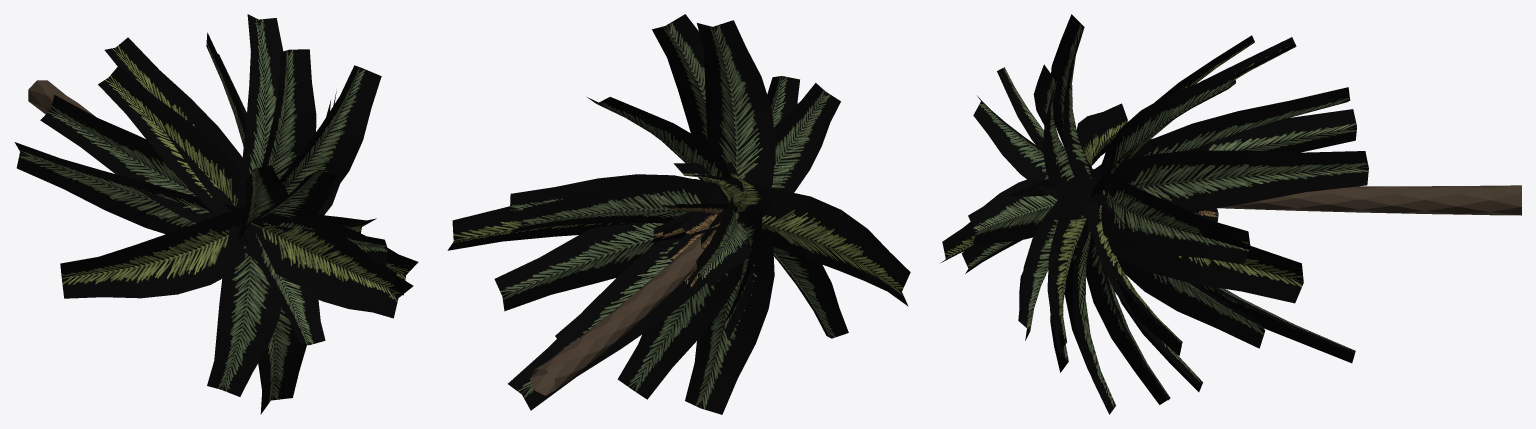
File: SM_Plant_DatePalm_B.obj
3 renders of one model, left to right at view 1: azimuth 30°, elevation 25°; view 2: azimuth 150°, elevation 25°; view 3: azimuth 270°, elevation 25°, orthographic. The views are drawn at different scales.
Visible parts, largest first — view 1: SM_Plant_DatePalm_B; view 2: SM_Plant_DatePalm_B; view 3: SM_Plant_DatePalm_B.
Part boxes in pixels (<box>): SM_Plant_DatePalm_B: <box>14,14,418,414</box>; SM_Plant_DatePalm_B: <box>447,14,910,414</box>; SM_Plant_DatePalm_B: <box>941,14,1521,414</box>.
Bounding box in the file's own units: 699 × 673 × 905.
2 materials, 1 textured.
